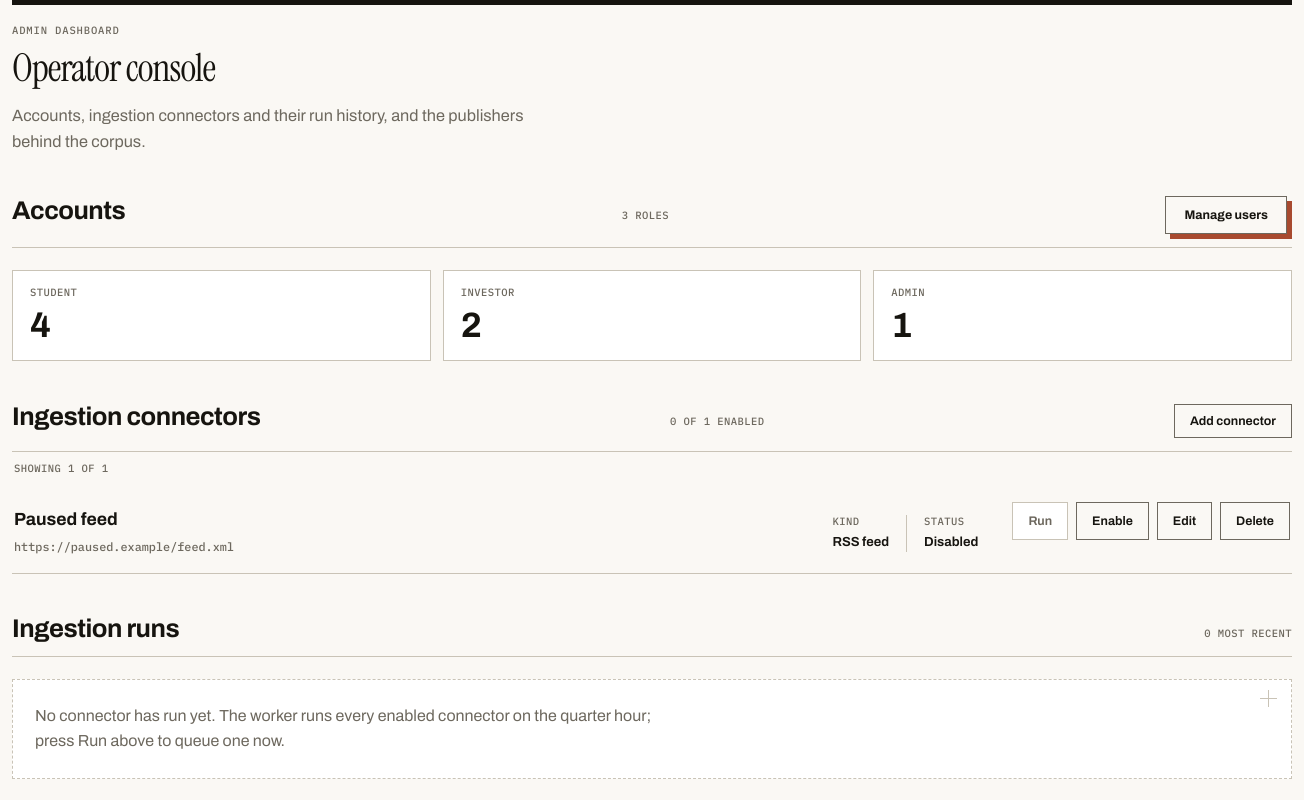
Test case: Admin dashboard › offers no Run for a disabled connector, and enables it in one press
The image size is (1304, 800).
expect the button "Run" is disabled: met, box [1012,501,1068,540]
Step 1. Click the button "Enable" → (1112, 521), box [1076,501,1149,540]
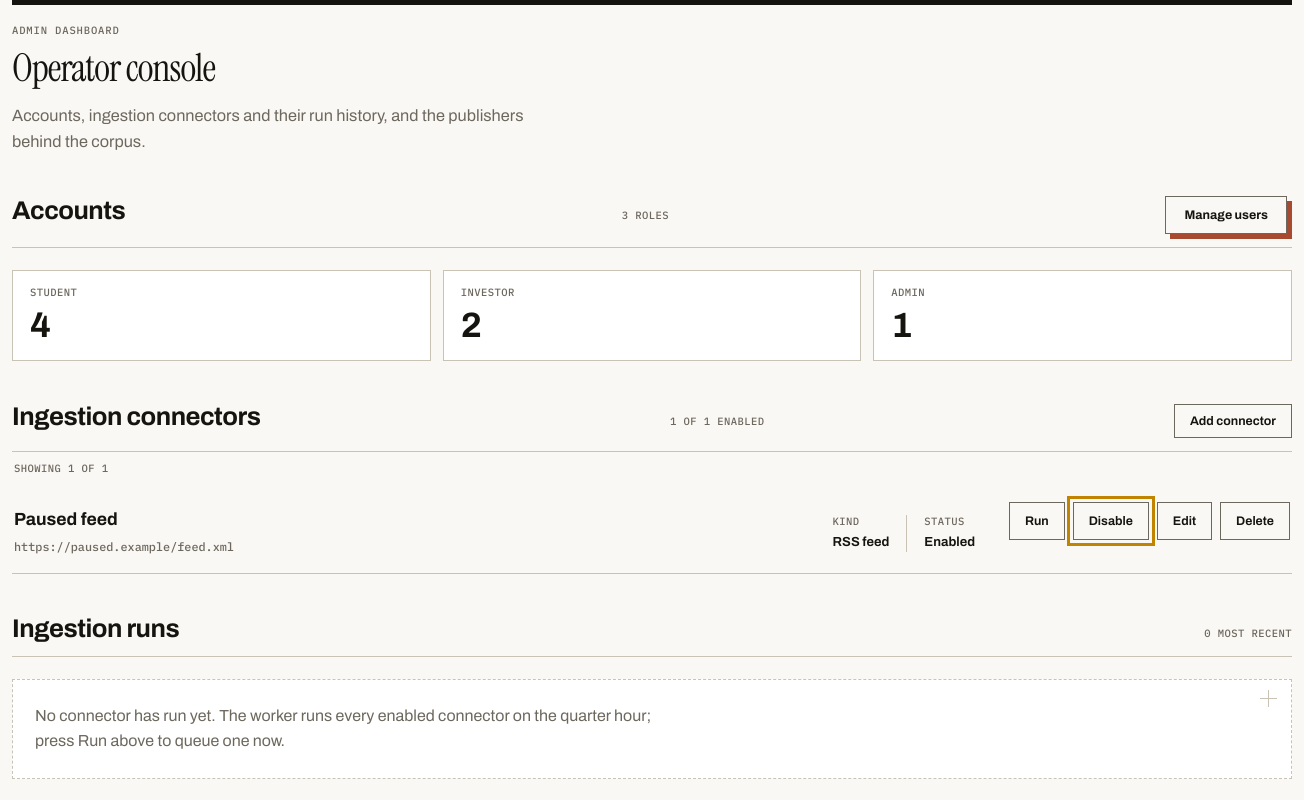
expect the button "Disable" is shown: met, box [1073,501,1149,540]
expect the button "Run" is enabled: met, box [1009,501,1065,540]
